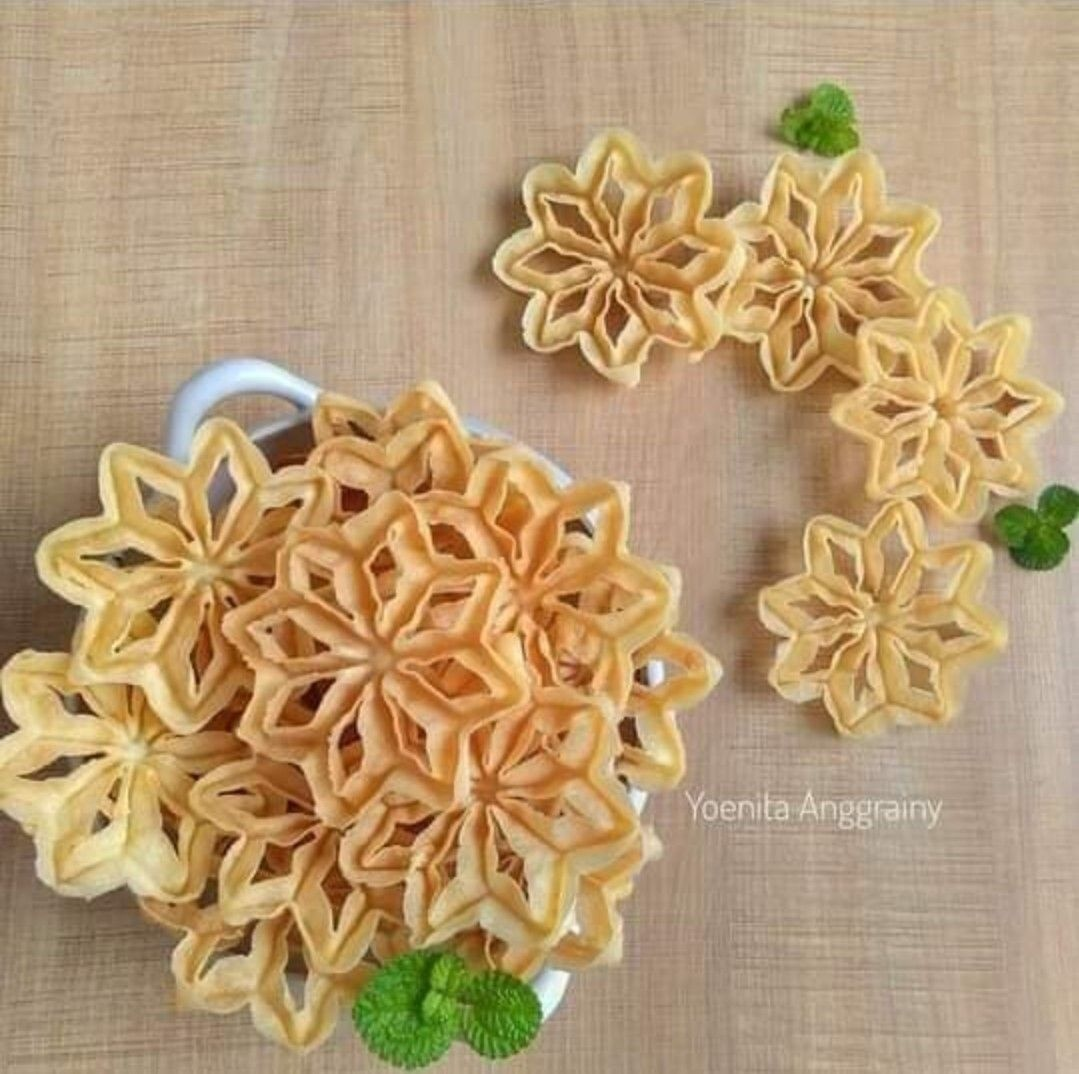kembang_goyang: (259, 502, 527, 826), (540, 125, 743, 393)
